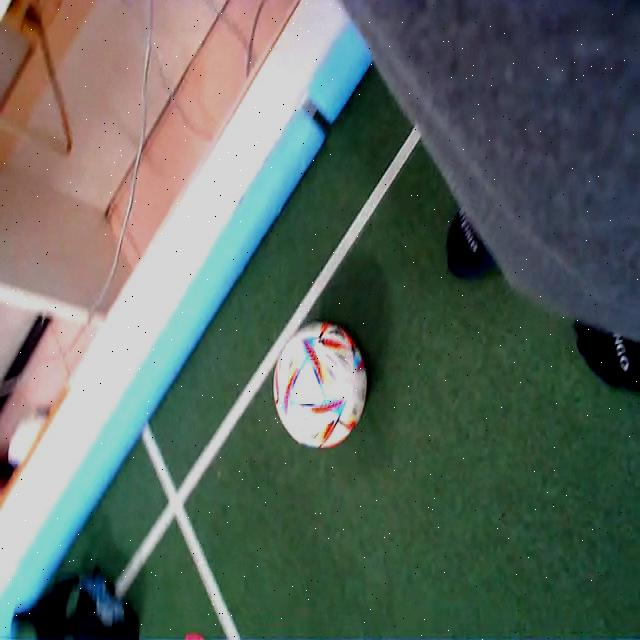ball: (272, 323, 368, 448)
